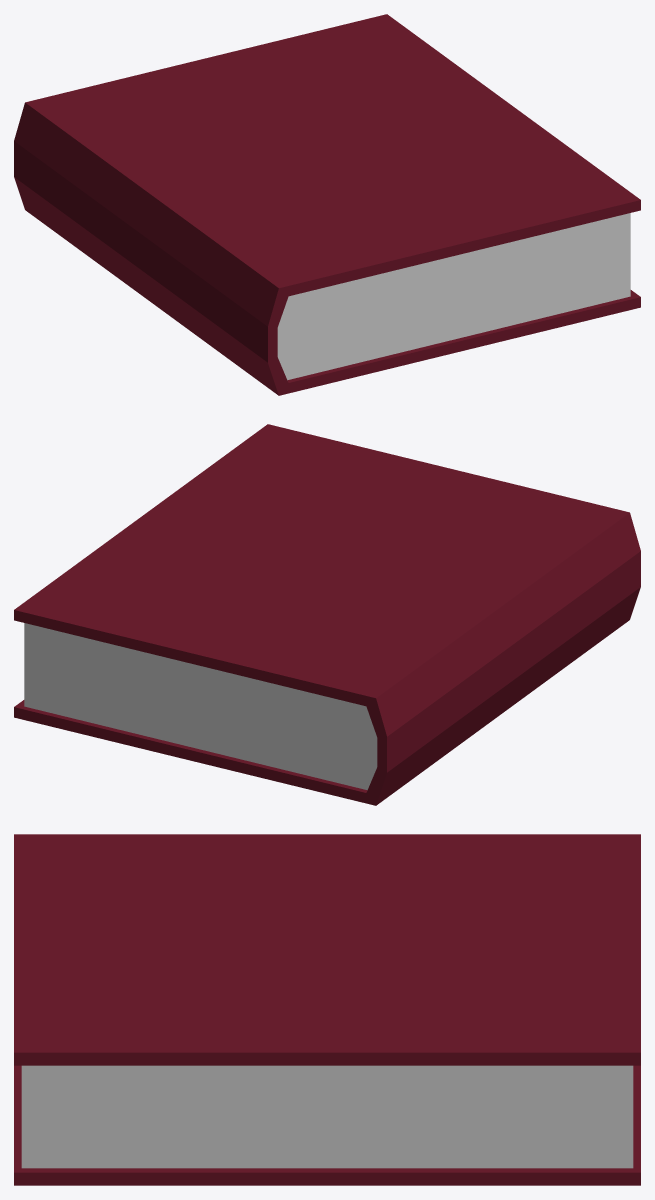
Rendered from book.fbx.
The picture shows the model from 3 angles, top to bottom: view 1: azimuth 30°, elevation 25°; view 2: azimuth 150°, elevation 25°; view 3: azimuth 270°, elevation 25°; orthographic projection. The views are drawn at different scales.
Visible parts, largest first — view 1: Book; view 2: Book; view 3: Book.
Boxes of the visible parts, box(x1,y1,x2,y2) form: Book: box(14, 14, 640, 395); Book: box(14, 424, 640, 805); Book: box(14, 834, 640, 1185).
Size of the model in its own units: 839 by 989 by 231.
